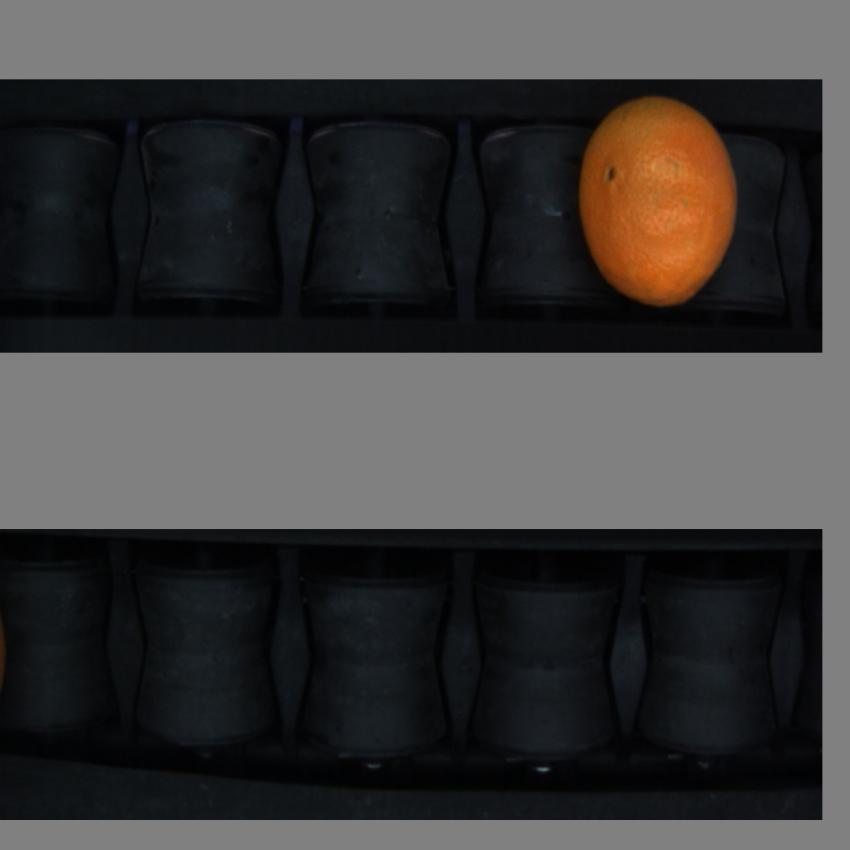Buen estado: (576, 83, 744, 305)
